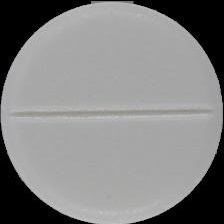55700-208: (0, 0, 224, 224)
